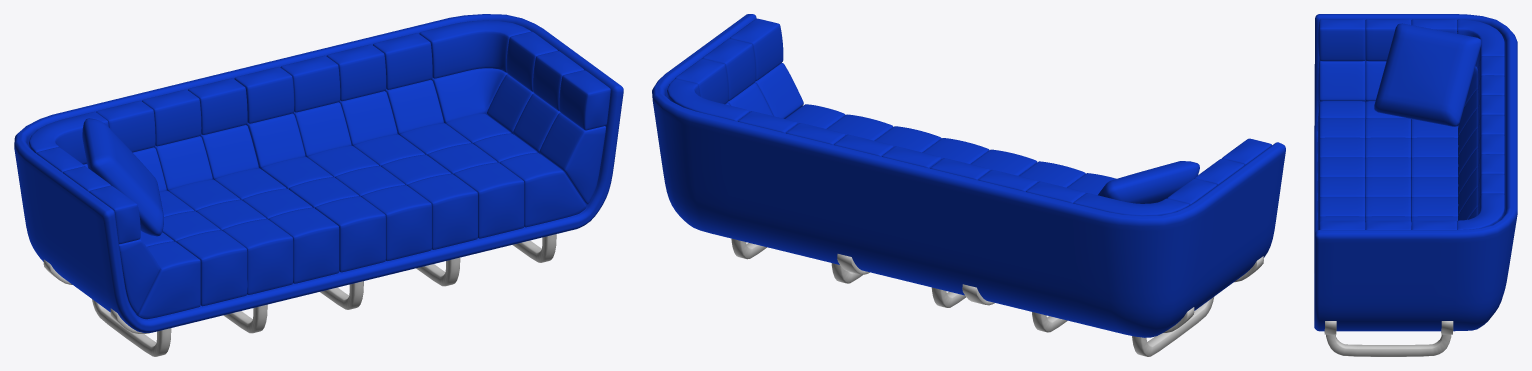
The model's file is ssao_showcase.obj.
3 views of the same model, side by side, from view 1: azimuth 30°, elevation 25°; view 2: azimuth 150°, elevation 25°; view 3: azimuth 270°, elevation 25° (orthographic). The views are drawn at different scales.
Parts seen in each view (by area): view 1: OSGJS-Imported-Scene_SketchfaBs.obj.cleaner.materialmerger.g; view 2: OSGJS-Imported-Scene_SketchfaBs.obj.cleaner.materialmerger.g; view 3: OSGJS-Imported-Scene_SketchfaBs.obj.cleaner.materialmerger.g.
Boxes of the visible parts, x1=… form: OSGJS-Imported-Scene_SketchfaBs.obj.cleaner.materialmerger.g: x1=14, y1=14, x2=623, y2=356; OSGJS-Imported-Scene_SketchfaBs.obj.cleaner.materialmerger.g: x1=652, y1=14, x2=1285, y2=356; OSGJS-Imported-Scene_SketchfaBs.obj.cleaner.materialmerger.g: x1=1314, y1=14, x2=1517, y2=356.
Size of the model in its own units: 2.7 by 0.8943 by 1.05.
